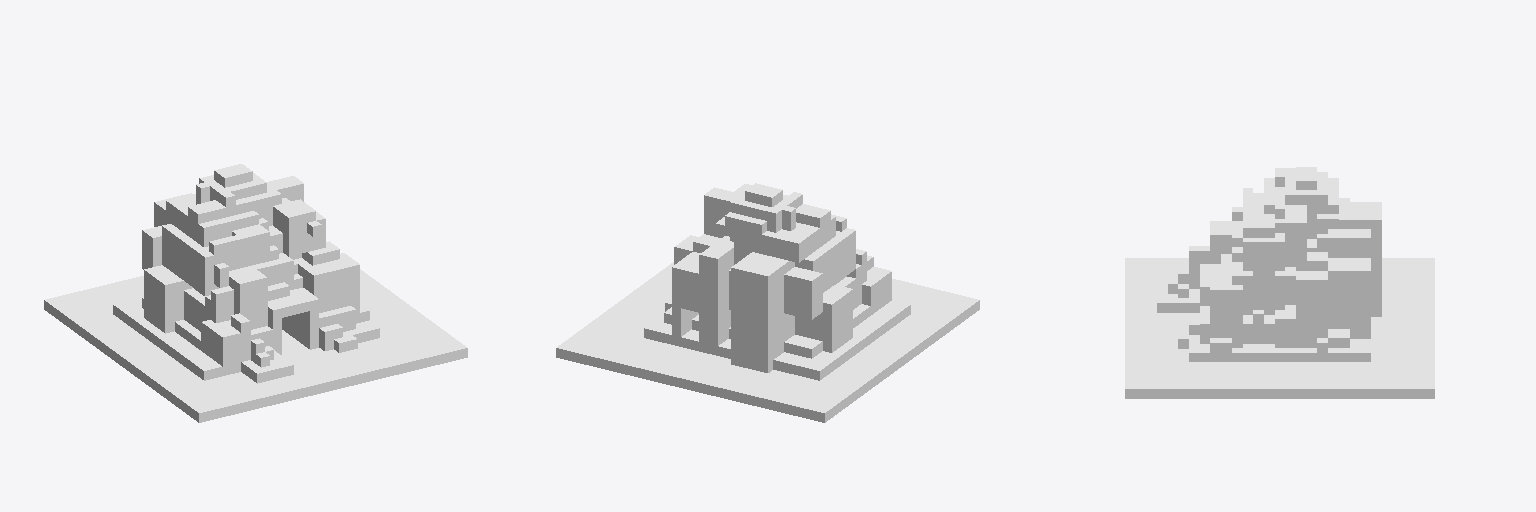
The model's file is SulfureMine.obj.
3 views of the same model, side by side, from view 1: azimuth 30°, elevation 25°; view 2: azimuth 150°, elevation 25°; view 3: azimuth 270°, elevation 25° (orthographic).
Parts seen in each view (by area): view 1: object 1; view 2: object 1; view 3: object 1.
Boxes of the visible parts, x1=… form: object 1: x1=44, y1=164, x2=467, y2=422; object 1: x1=556, y1=183, x2=979, y2=422; object 1: x1=1125, y1=167, x2=1434, y2=398.
Bounding box in the file's own units: 2.9 × 1.6 × 2.9.